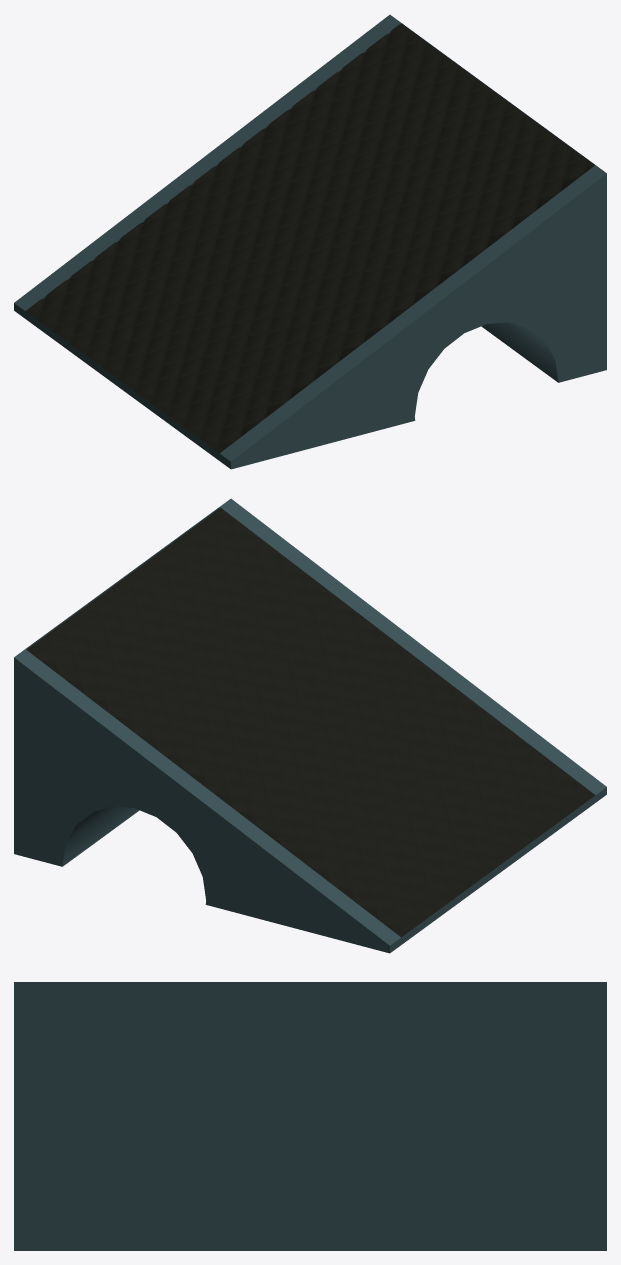
Rendered from EM_151_dolly_cart_slope.glb.
The picture shows the model from 3 angles, top to bottom: view 1: azimuth 30°, elevation 25°; view 2: azimuth 150°, elevation 25°; view 3: azimuth 270°, elevation 25°; orthographic projection. The views are drawn at different scales.
Visible parts, largest first — view 1: surface, dolly_cart; view 2: surface, dolly_cart; view 3: dolly_cart.
Boxes of the visible parts, x1,y1,x2,y2 form: surface: (25,24,594,453); dolly_cart: (14,14,606,469); surface: (26,508,595,937); dolly_cart: (14,498,606,953); dolly_cart: (14,982,606,1250).
Size of the model in its own units: 1.5 by 0.7794 by 1.5.
